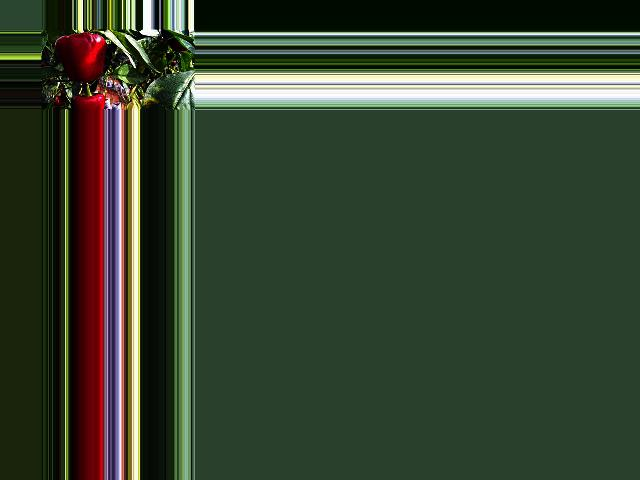bell_pepper: (69, 89, 109, 110)
